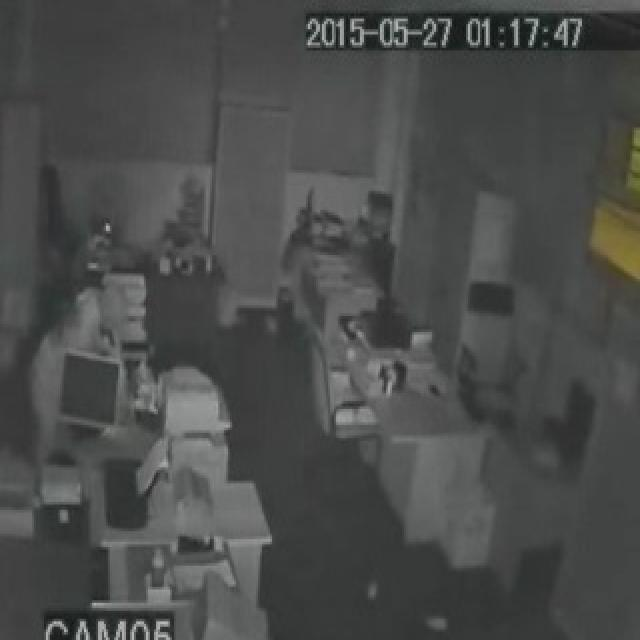thief: (57, 238, 129, 399)
